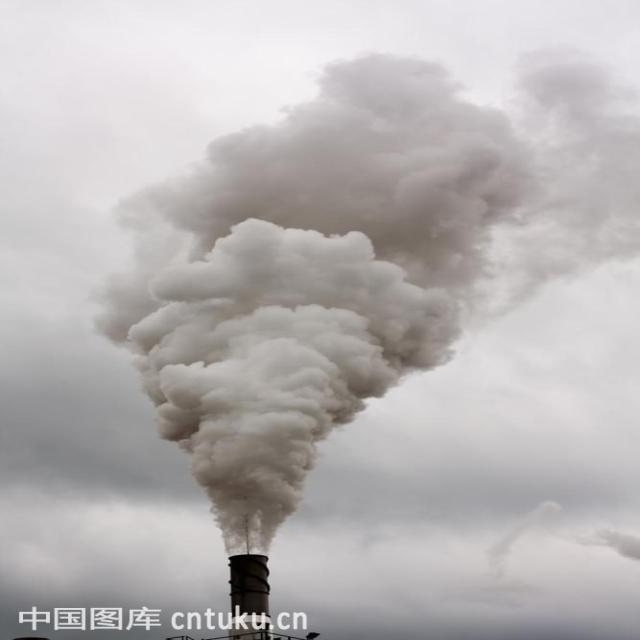Smoke: (80, 55, 640, 558)
